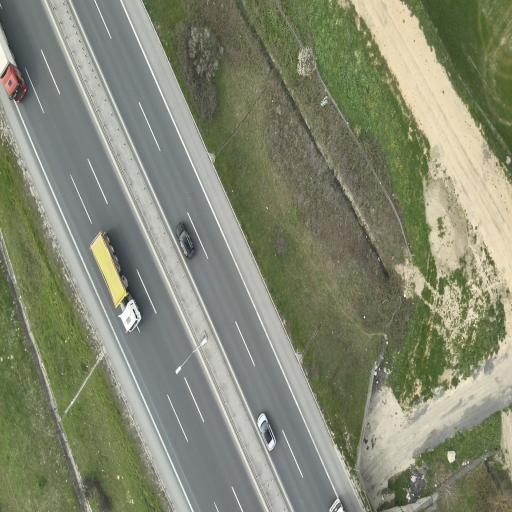car: (91, 232, 141, 332), (0, 27, 26, 102), (176, 222, 194, 258), (258, 413, 275, 450), (330, 498, 343, 511)
